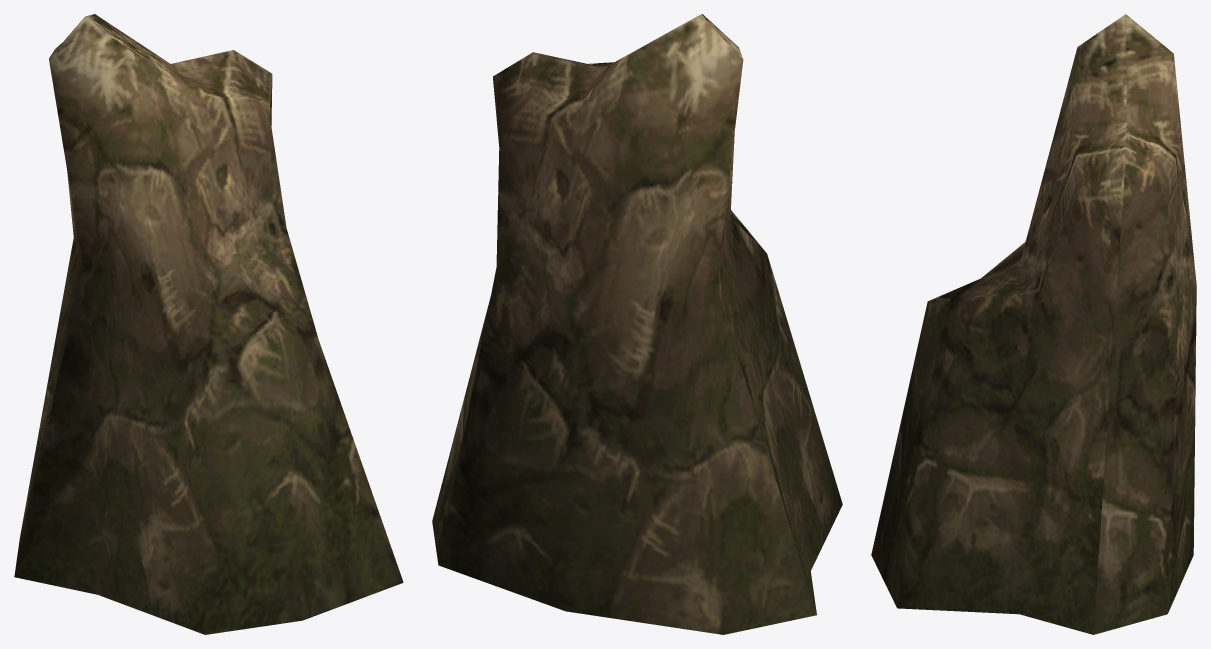
File: zshh_shitou_01.FBX
The picture shows the model from 3 angles, left to right: view 1: azimuth 30°, elevation 25°; view 2: azimuth 150°, elevation 25°; view 3: azimuth 270°, elevation 25°; orthographic projection. The views are drawn at different scales.
Parts seen in each view (by area): view 1: zshh_shitou_01; view 2: zshh_shitou_01; view 3: zshh_shitou_01.
Part boxes in pixels (left/top/right/bottom): zshh_shitou_01: left=14, top=14, right=403, bottom=634; zshh_shitou_01: left=432, top=14, right=842, bottom=634; zshh_shitou_01: left=871, top=14, right=1196, bottom=634.
Size of the model in its own units: 195 by 168 by 286.
